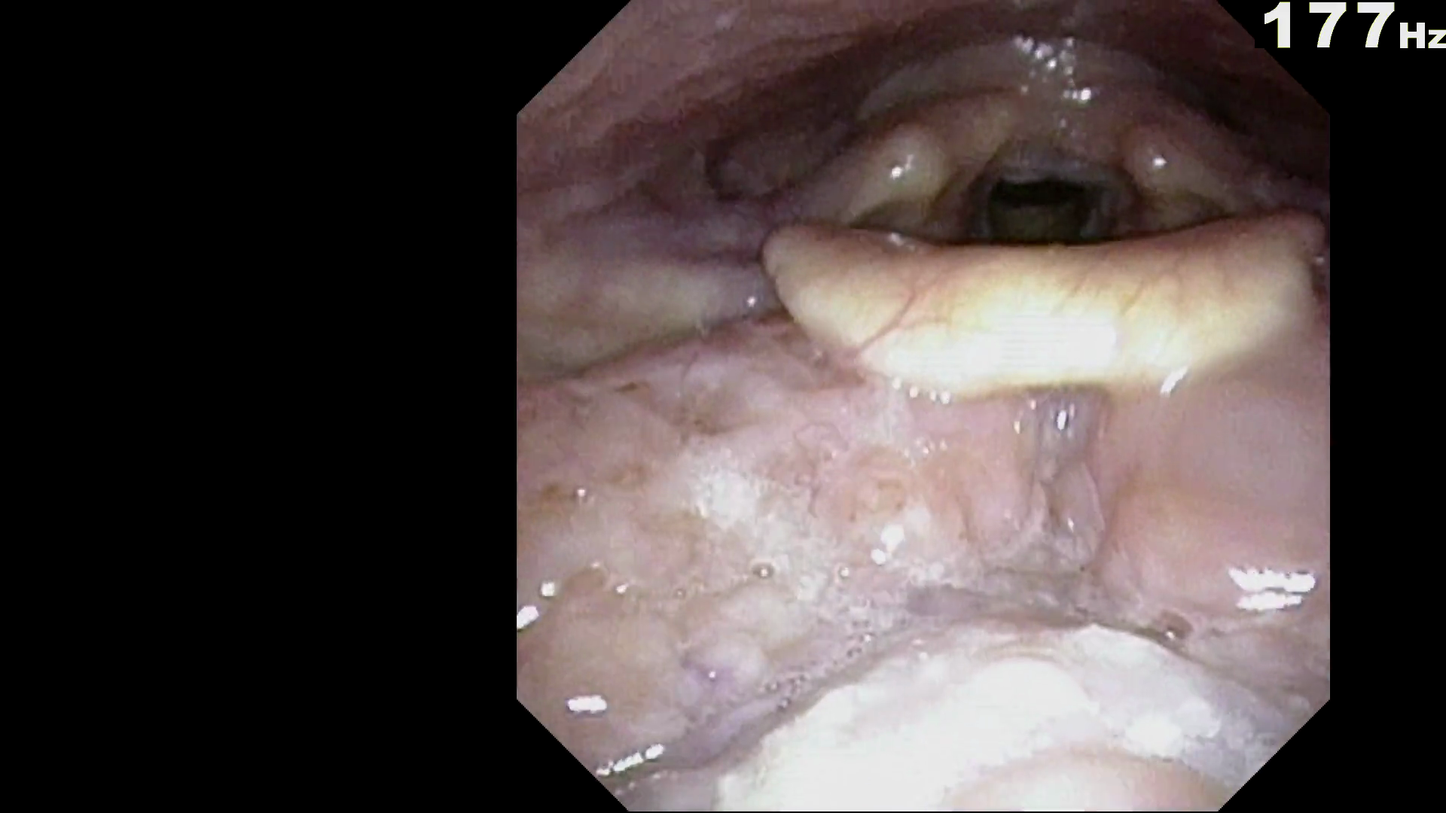epiglottis: (735, 156, 1308, 440)
trachea: (969, 141, 1115, 295)
